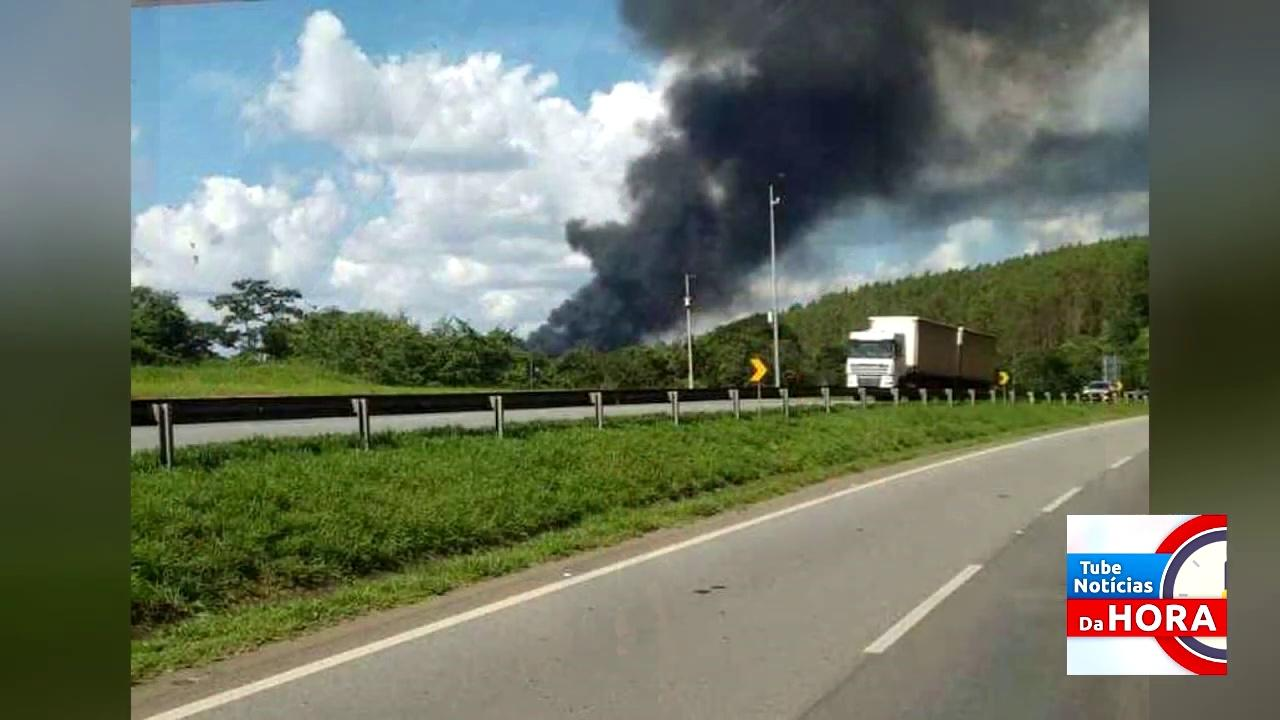smoke: (740, 8, 956, 184), (638, 182, 742, 314)
